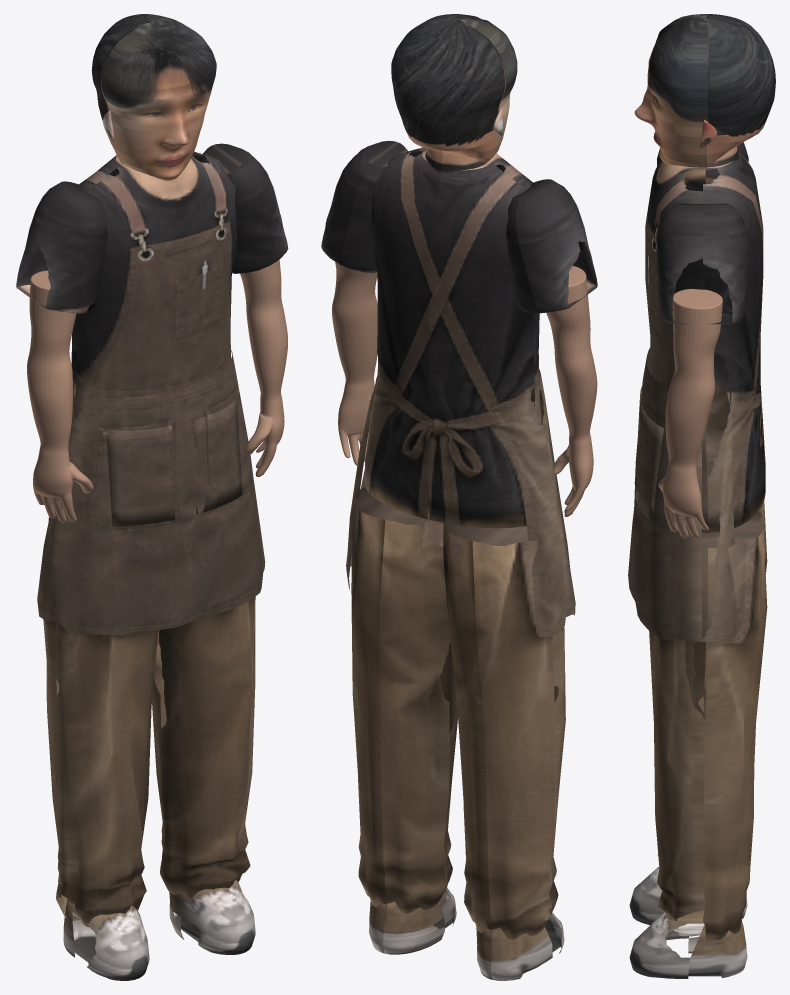
Rendered from Barista.fbx.
3 renders of one model, left to right at view 1: azimuth 30°, elevation 25°; view 2: azimuth 150°, elevation 25°; view 3: azimuth 270°, elevation 25°, orthographic.
Visible parts, largest first — view 1: Wrap apron with pocket panels, Loose tee and canvas bib, Canvas trouser -1, Canvas trouser 1, Left arm and articulated hand, Oversized sleeve -1, Swept fringe | asymmetric part, Portrait | cheeks, lids, nose and jaw, Right arm and articulated hand, Sewn patch pocket, Oversized sleeve 1, Trainer -1 (+2 smaller); view 2: Loose tee and canvas bib, Canvas trouser -1, Canvas trouser 1, Swept fringe | asymmetric part, Wrap apron with pocket panels, Oversized sleeve -1, Left arm and articulated hand, Right arm and articulated hand, Oversized sleeve 1, Trainer 1, Trainer -1, Occiput and jaw return (+1 smaller); view 3: Canvas trouser 1, Loose tee and canvas bib, Wrap apron with pocket panels, Swept fringe | asymmetric part, Right arm and articulated hand, Oversized sleeve 1, Trainer 1, Portrait | cheeks, lids, nose and jaw, Sewn patch pocket.001, Trainer -1, Occiput and jaw return, Canvas trouser -1 (+1 smaller).
Boxes of the visible parts, x1,y1,x2,y2 form: Wrap apron with pocket panels: (37,350,265,634); Loose tee and canvas bib: (71,151,236,420); Canvas trouser -1: (43,517,158,927); Canvas trouser 1: (152,596,255,898); Left arm and articulated hand: (27,270,93,522); Oversized sleeve -1: (16,181,107,313); Swept fringe | asymmetric part: (91,14,216,119); Portrait | cheeks, lids, nose and jaw: (109,20,210,180); Right arm and articulated hand: (240,259,287,476); Sewn patch pocket: (106,425,174,526); Oversized sleeve 1: (198,143,288,273); Trainer -1: (63,898,149,980); Loose tee and canvas bib: (365,147,542,528); Canvas trouser -1: (443,523,565,939); Canvas trouser 1: (351,487,457,913); Swept fringe | asymmetric part: (391,14,517,151); Wrap apron with pocket panels: (346,369,575,637); Oversized sleeve -1: (506,179,597,313); Left arm and articulated hand: (546,266,597,516); Right arm and articulated hand: (332,262,377,465); Oversized sleeve 1: (321,140,410,272); Trainer 1: (369,887,456,954); Trainer -1: (476,911,564,980); Occiput and jaw return: (417,19,499,163); Canvas trouser 1: (649,511,767,939); Loose tee and canvas bib: (645,152,765,532); Wrap apron with pocket panels: (628,347,736,642); Swept fringe | asymmetric part: (647,14,775,139); Right arm and articulated hand: (658,288,722,538); Oversized sleeve 1: (657,203,748,324); Trainer 1: (629,910,747,978); Portrait | cheeks, lids, nose and jaw: (634,15,706,167); Sewn patch pocket.001: (635,402,663,521); Trainer -1: (629,866,747,924); Occiput and jaw return: (707,15,755,167); Canvas trouser -1: (657,500,767,855).
Bounding box in the file's own units: 52.89 × 175 × 25.35.
7 materials, 3 textured.
